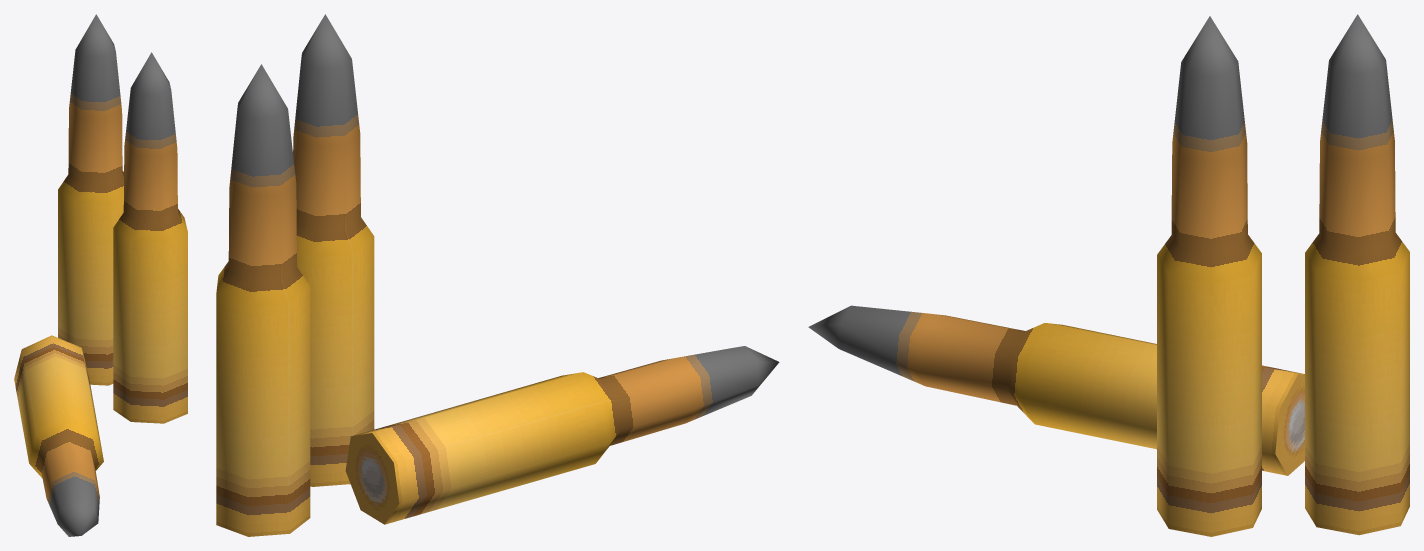
The model's file is 792Ammo.fbx.
The picture shows the model from 3 angles, left to right: view 1: azimuth 30°, elevation 25°; view 2: azimuth 150°, elevation 25°; view 3: azimuth 270°, elevation 25°; orthographic projection. The views are drawn at different scales.
Visible parts, largest first — view 1: 792Ammo; view 2: 792Ammo; view 3: 792Ammo.
Part boxes in pixels (x1,y1,x2,y2): 792Ammo: [14, 14, 187, 536]; 792Ammo: [216, 14, 779, 536]; 792Ammo: [808, 14, 1409, 536].
Size of the model in its own units: 0.0452 by 0.0613 by 0.0671.
